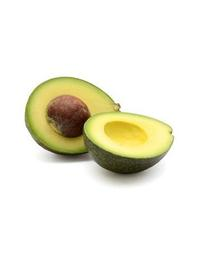avocado: (24, 76, 124, 156), (83, 112, 174, 175)
